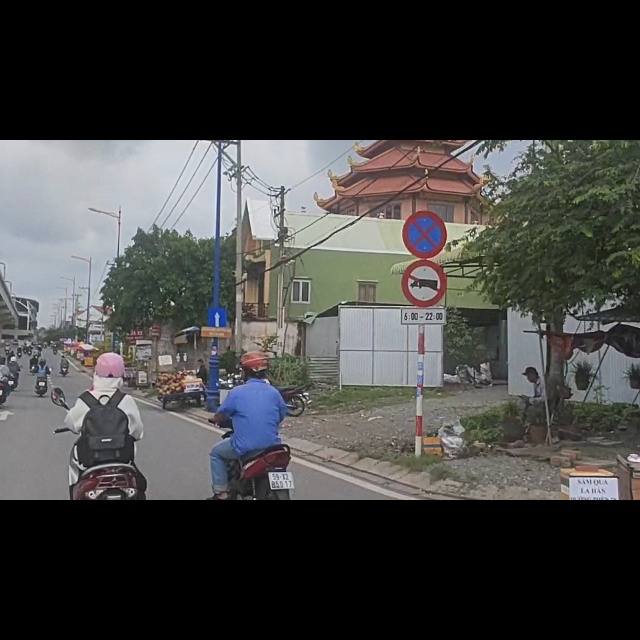bien_cam: (403, 124, 447, 210), (401, 212, 446, 296), (207, 299, 229, 335)
